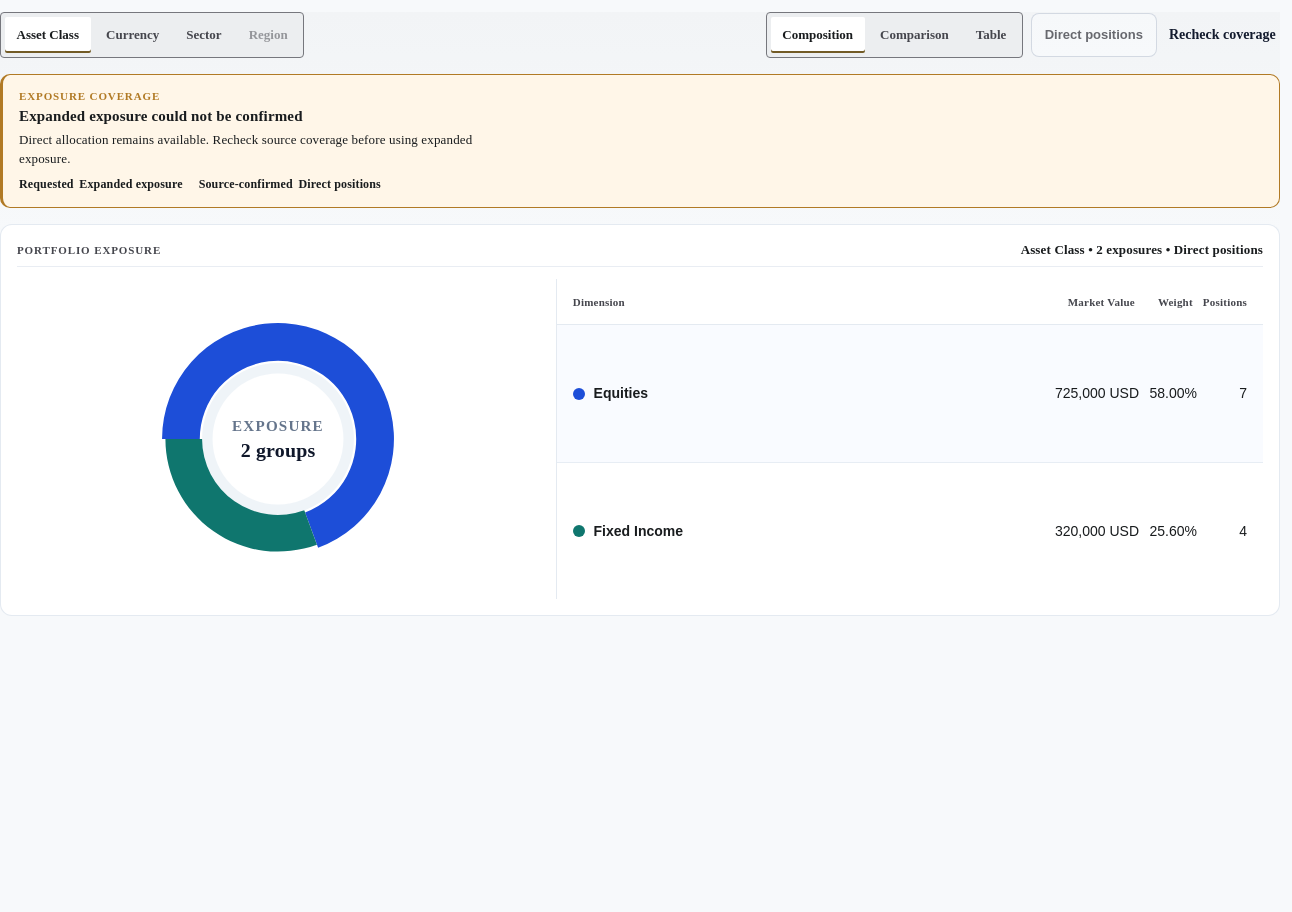
Test: PortfolioAllocationPanel › applies an empty direct fallback and clears the invalidated exposure
Expected: the text "Expanded exposure could not be confirmed" is shown, [19,108,303,124]
What coordinates should you click on to do the following:
click the button with aria-label "Recheck exposure coverage"
I would click on:
 (1222, 35)
Its box is [1165,14,1280,56].
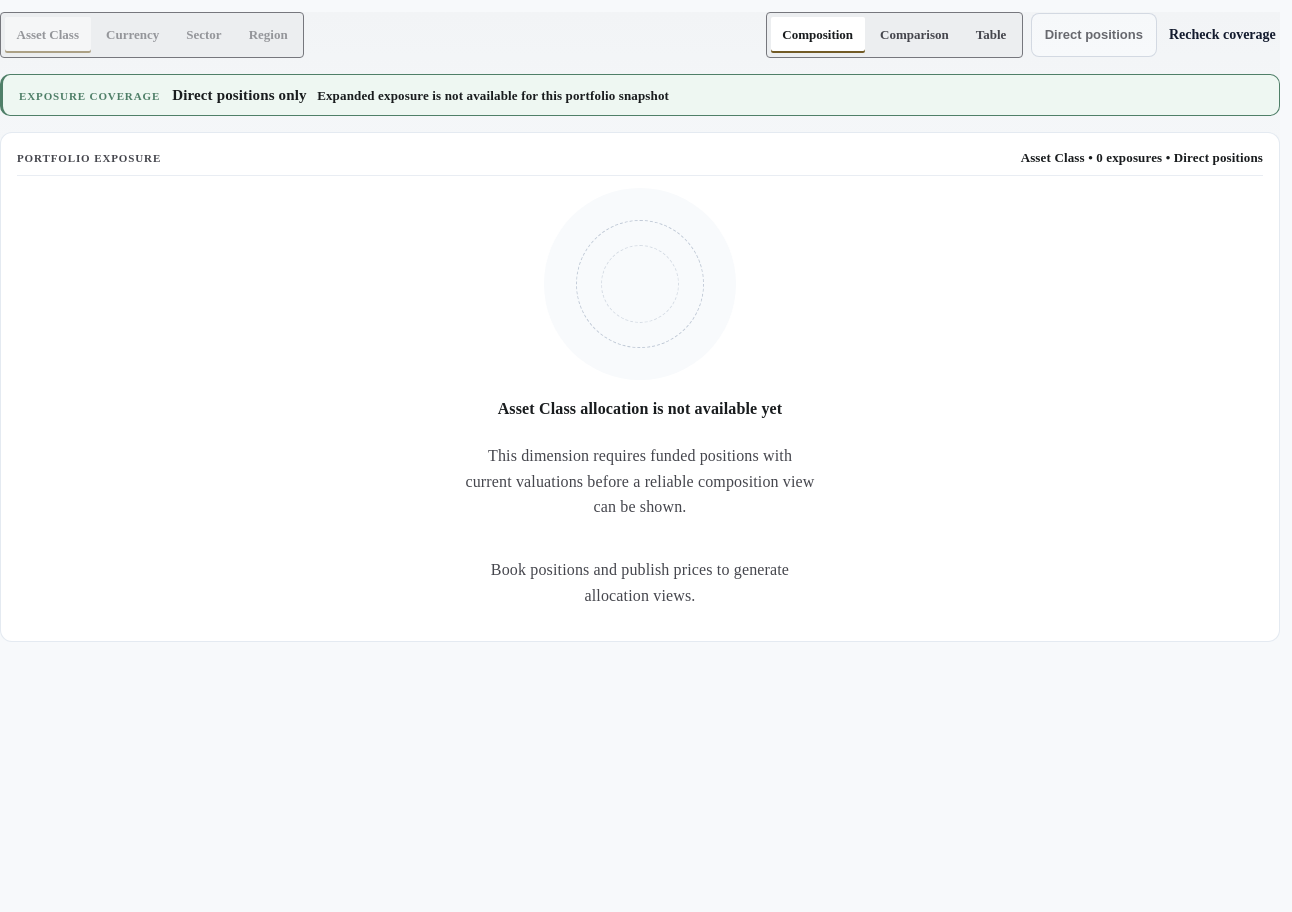
Result: the text "Direct positions only" is shown at [172,85,307,105]
Result: the text "Asset Class allocation is not available yet" is shown once at [498,400,782,417]
Result: the button "725,000 USD" is gone
